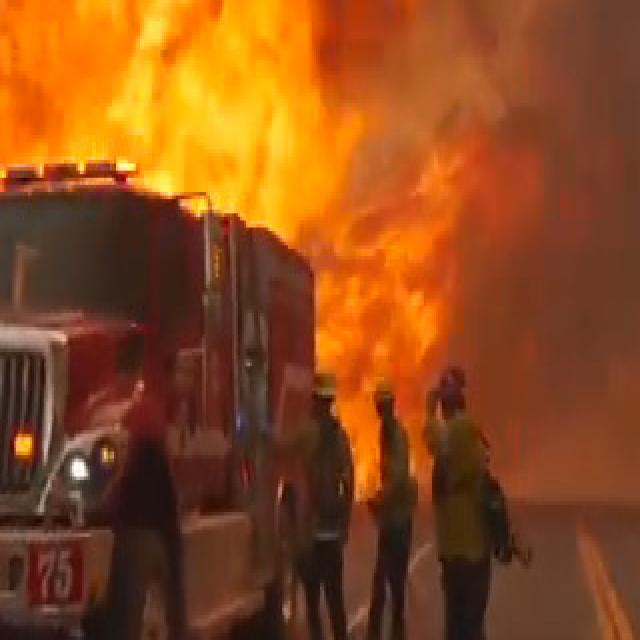fire: (14, 0, 392, 167), (307, 126, 474, 342)
